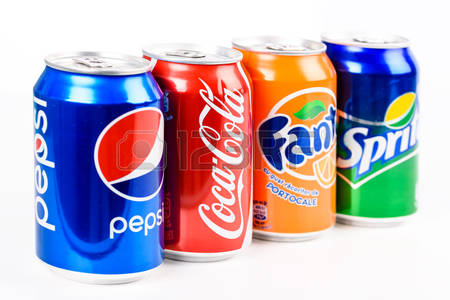fanta: (247, 43, 338, 239)
